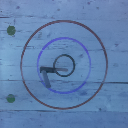Axe Tip: (47, 67, 55, 71)
